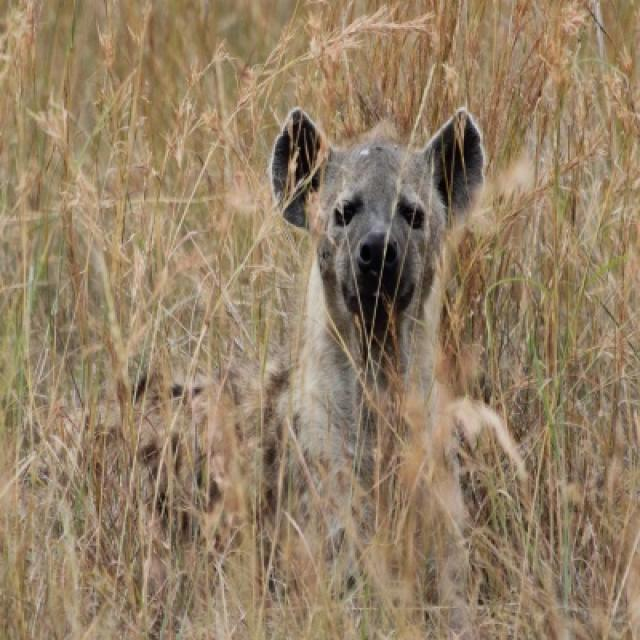hyena: (267, 107, 520, 469)
